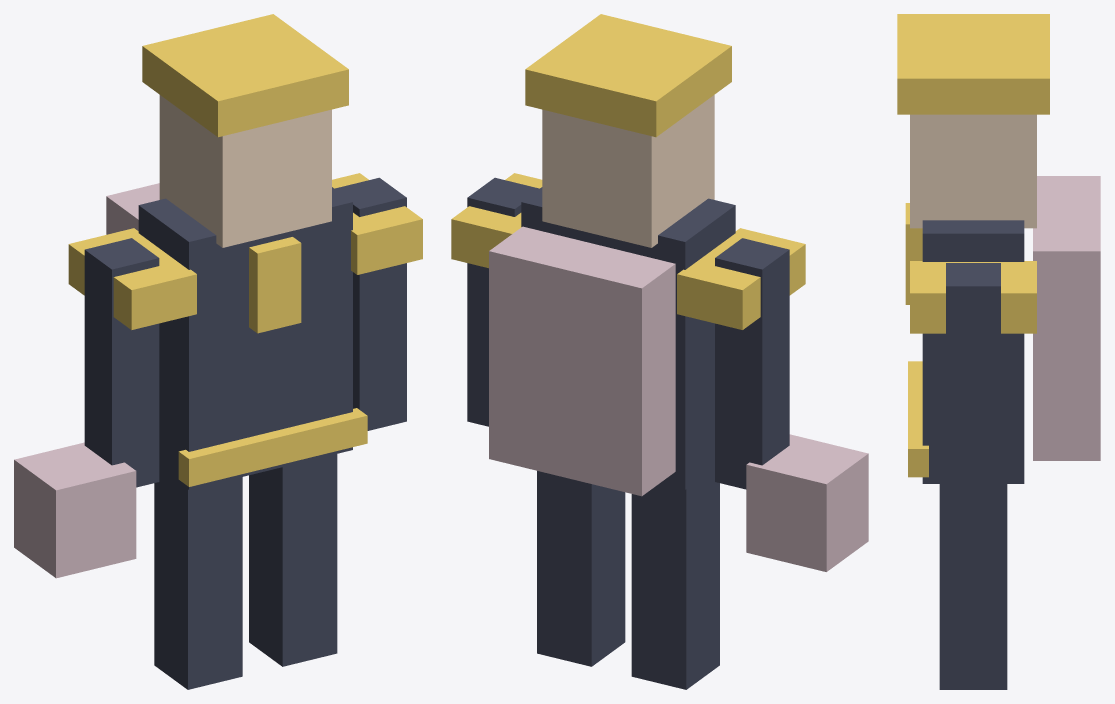
File: 07_kael_cinderholt_marshal_at_adaptive.glb
3 views of the same model, side by side, from view 1: azimuth 30°, elevation 25°; view 2: azimuth 150°, elevation 25°; view 3: azimuth 270°, elevation 25° (orthographic).
Parts seen in each view (by area): view 1: Kael Cinderholt, Marshal at Adaptive; view 2: Kael Cinderholt, Marshal at Adaptive; view 3: Kael Cinderholt, Marshal at Adaptive.
Part boxes in pixels (x1=…): Kael Cinderholt, Marshal at Adaptive: x1=14, y1=14, x2=422, y2=689; Kael Cinderholt, Marshal at Adaptive: x1=451, y1=14, x2=868, y2=689; Kael Cinderholt, Marshal at Adaptive: x1=897, y1=14, x2=1100, y2=689.
Bounding box in the file's own units: 1.03 × 1.63 × 0.4946.
